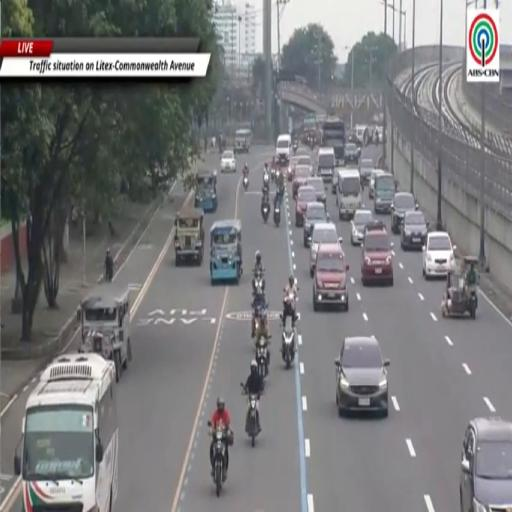bus: (14, 354, 118, 511), (322, 118, 345, 164), (374, 173, 396, 213), (303, 115, 317, 132)
car: (460, 418, 511, 511), (335, 336, 389, 417), (312, 243, 349, 312), (361, 223, 393, 285), (309, 222, 342, 278), (422, 231, 456, 279), (303, 202, 329, 247), (391, 192, 418, 234), (401, 211, 429, 250), (295, 186, 317, 227), (351, 210, 373, 245), (292, 166, 310, 199), (307, 178, 326, 205), (368, 168, 385, 198), (360, 158, 374, 184), (364, 219, 386, 234), (344, 143, 359, 165), (221, 151, 236, 172), (287, 156, 298, 182), (297, 154, 311, 168), (297, 147, 309, 156)
jeepney: (77, 283, 131, 380), (210, 220, 242, 284), (175, 207, 204, 266), (195, 171, 217, 212), (234, 128, 251, 153)
motorcycle: (213, 427, 226, 497), (245, 394, 260, 446), (282, 326, 295, 369), (256, 336, 268, 378), (274, 203, 281, 227), (261, 202, 269, 222), (104, 265, 113, 282), (287, 167, 293, 182), (278, 183, 284, 198), (275, 169, 281, 183), (243, 175, 248, 190), (264, 172, 269, 186), (271, 167, 276, 181), (293, 143, 297, 154)
tricycle: (442, 256, 479, 318)
